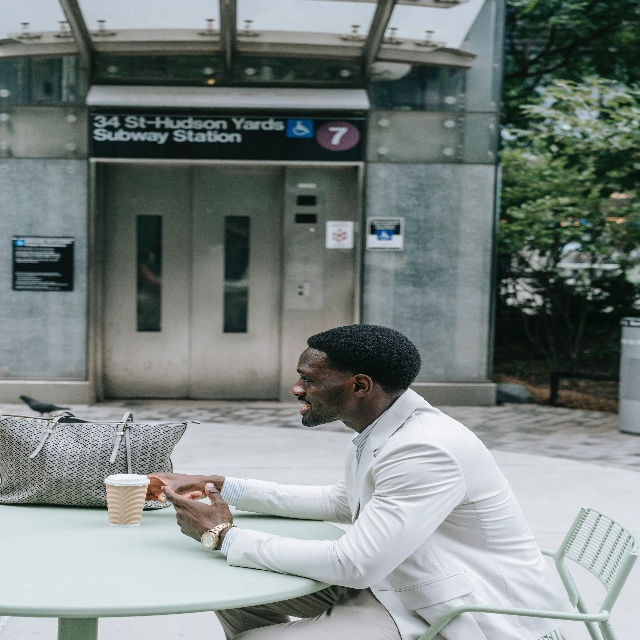Sin_guantes: (160, 472, 234, 552), (105, 466, 212, 506)
